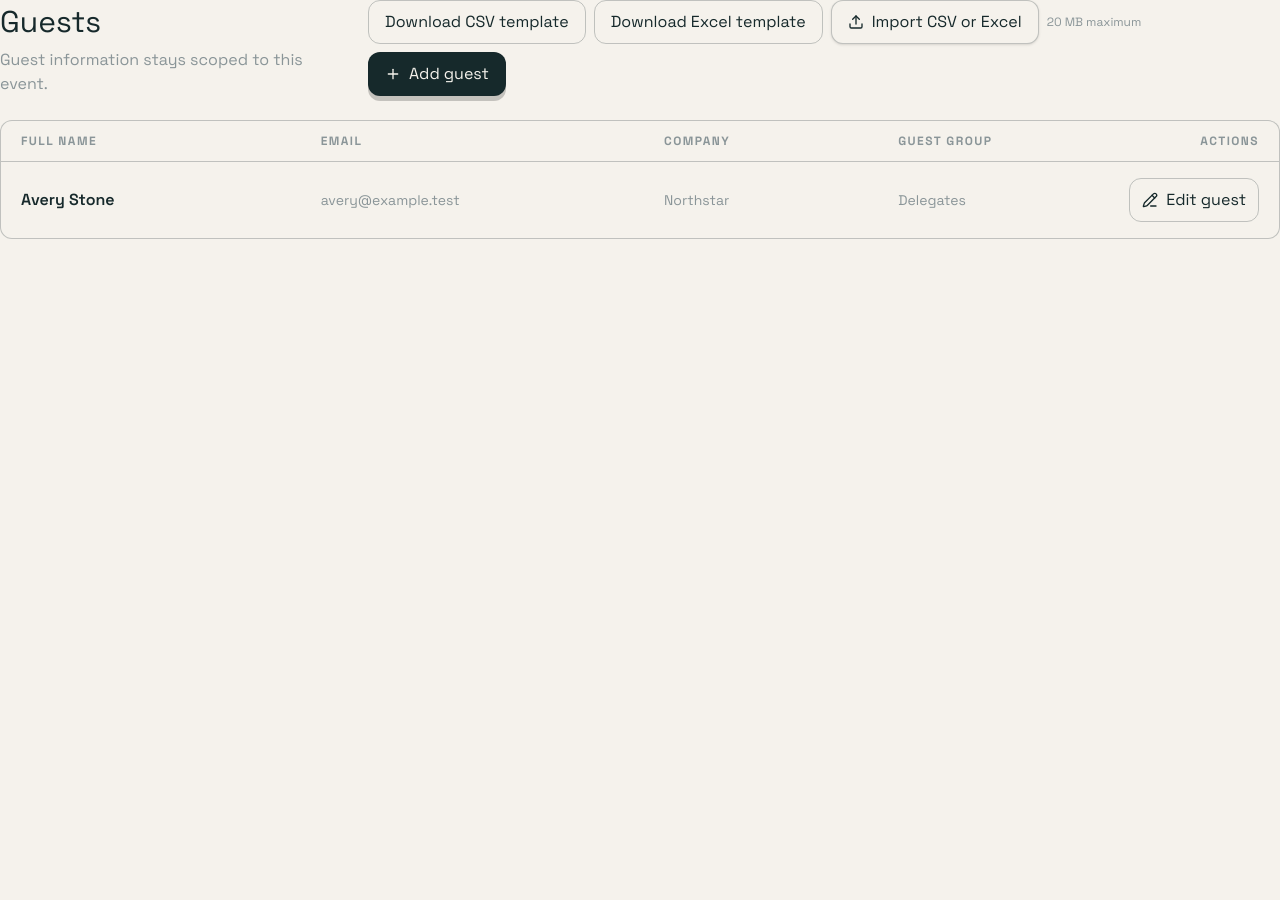
Test: GuestsPage import workflow › edits a guest through the event-scoped endpoint
Click the button "Edit guest": (1194, 200) [1129,178,1259,222]
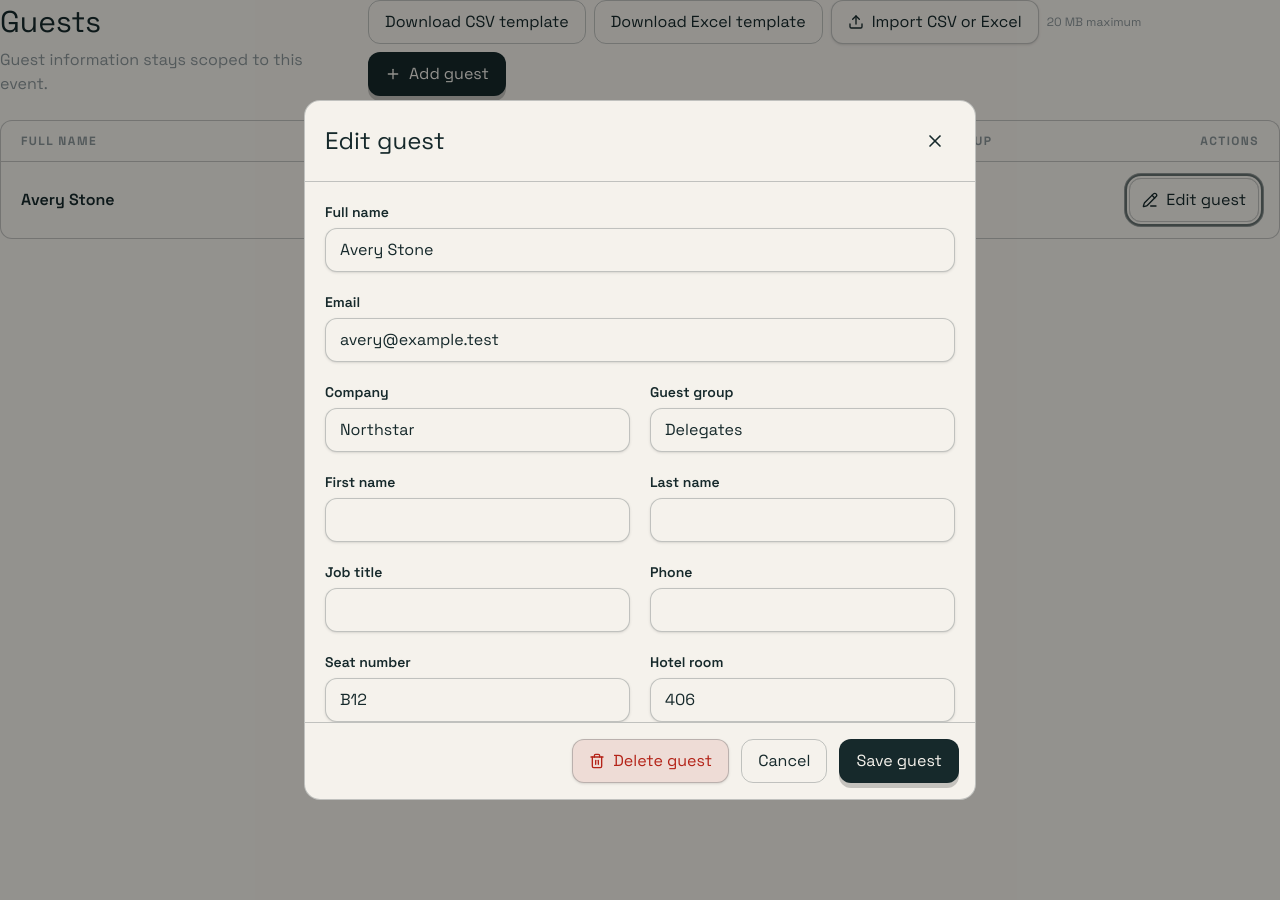
Check: the field showing "B12" is shown, box [325,678,630,722]
Replace the text in the field labelled "Full name" with "Avery Reed": (640, 250) [325,228,955,272]
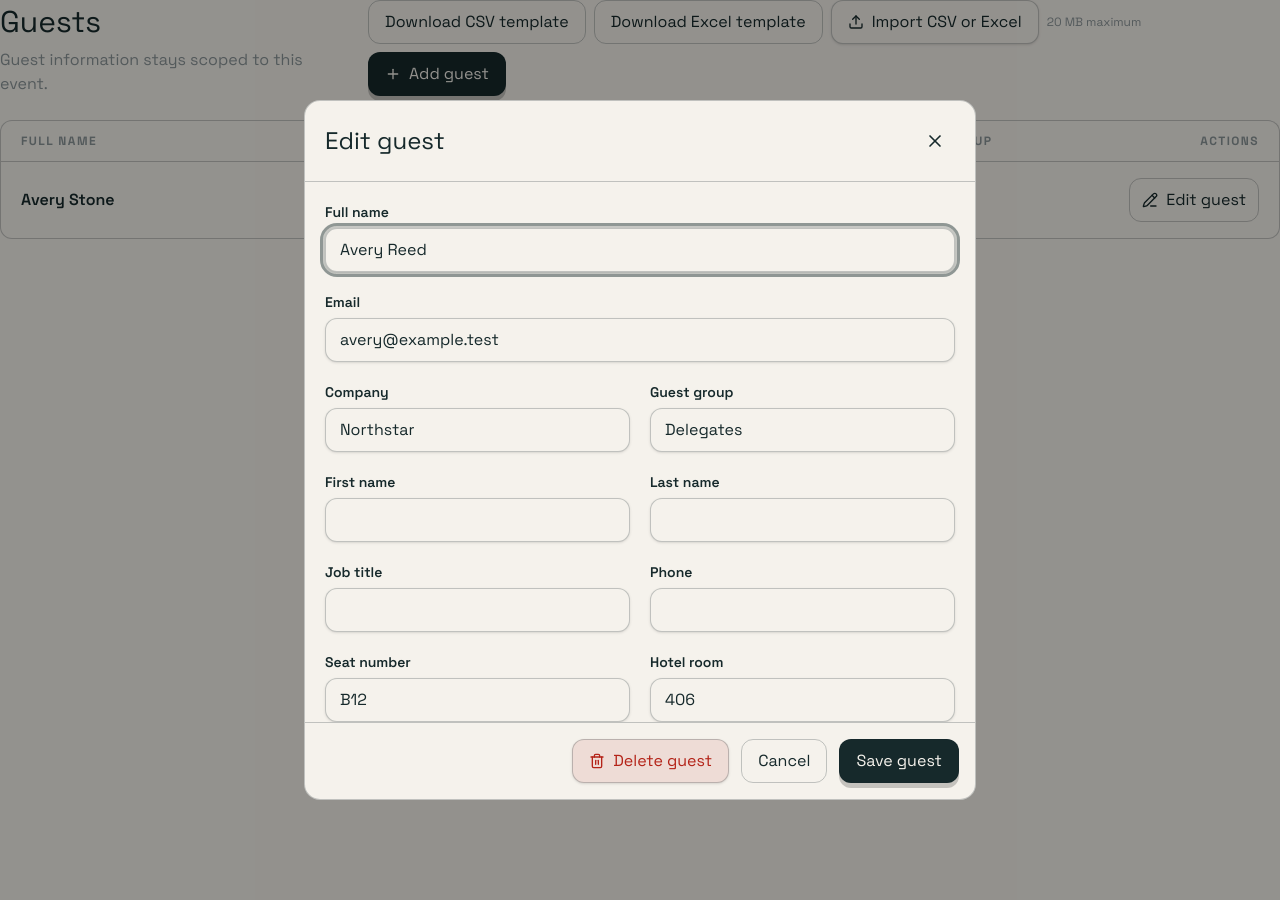
Click the button "Save guest": (899, 761) [839,739,959,783]
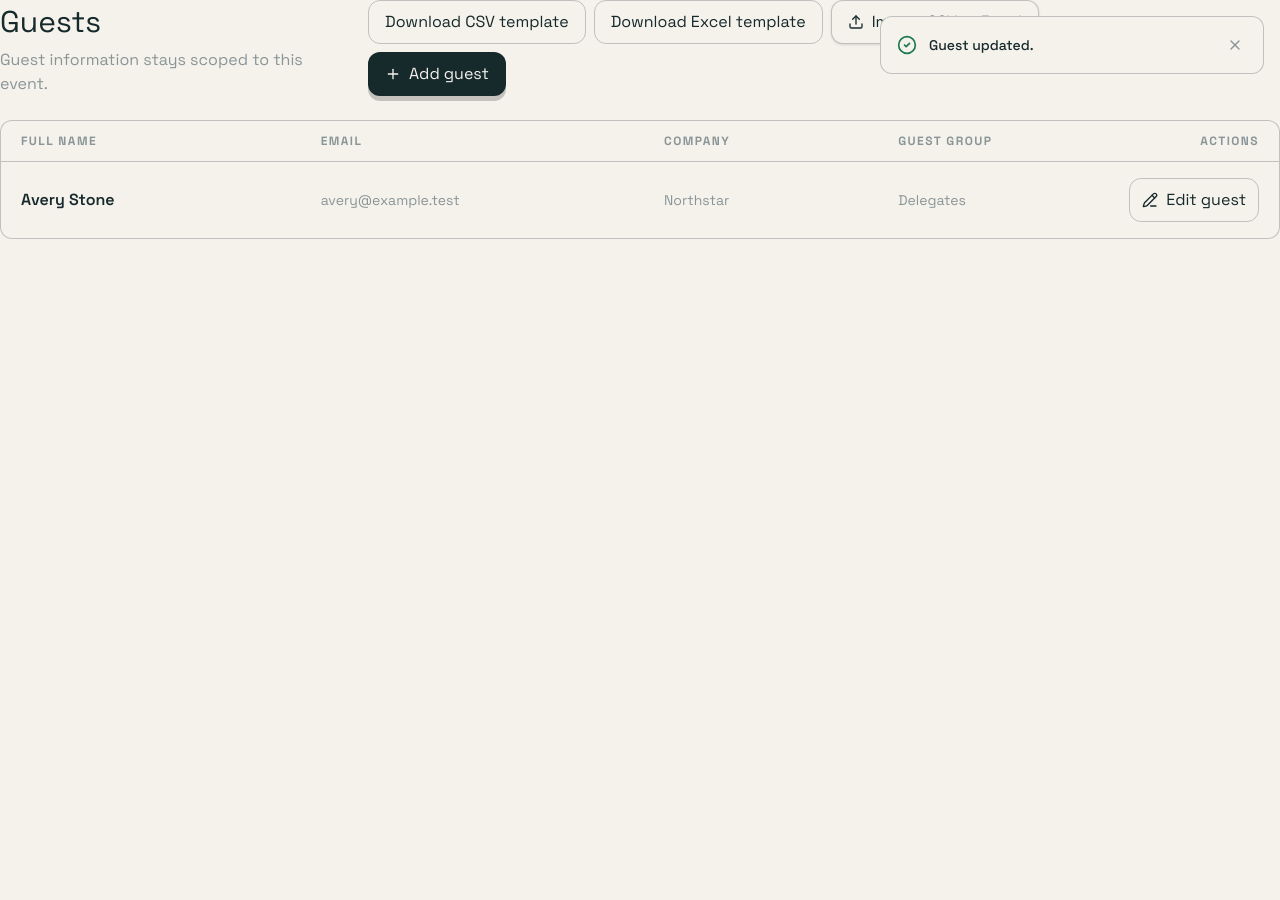
Check: the text "Guest updated." is shown, box [929,36,1034,54]
